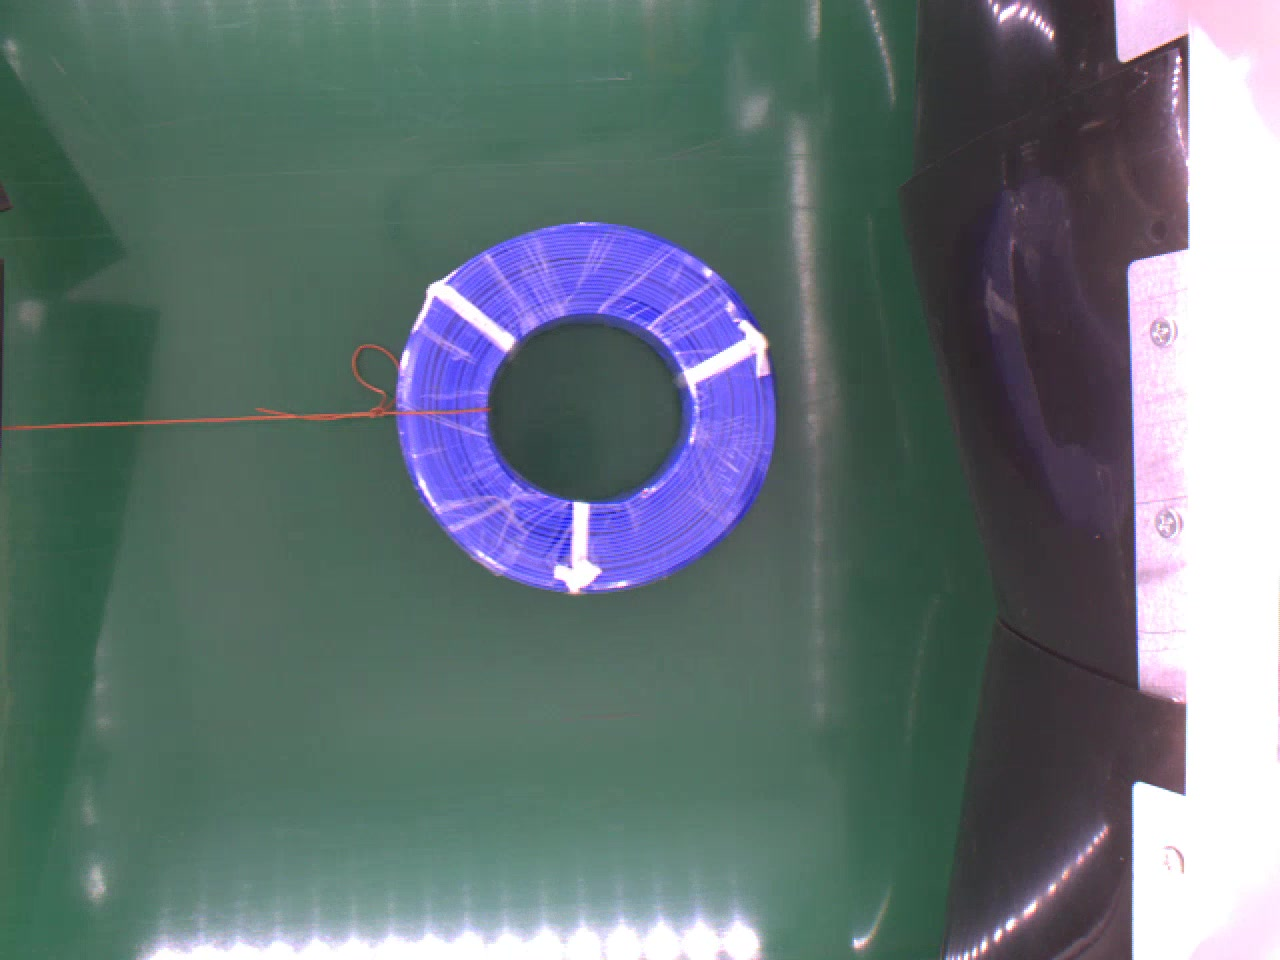blue: (392, 222, 783, 600)
